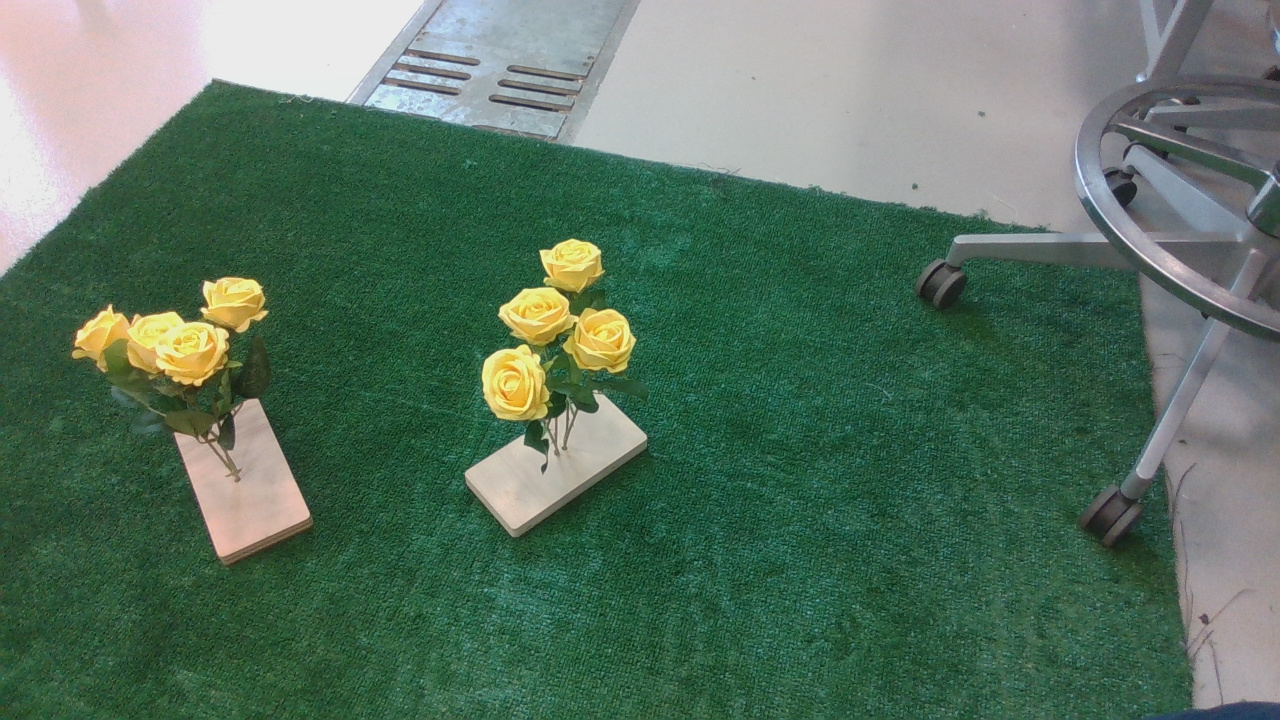rose: (69, 277, 285, 479), (477, 234, 650, 454)
